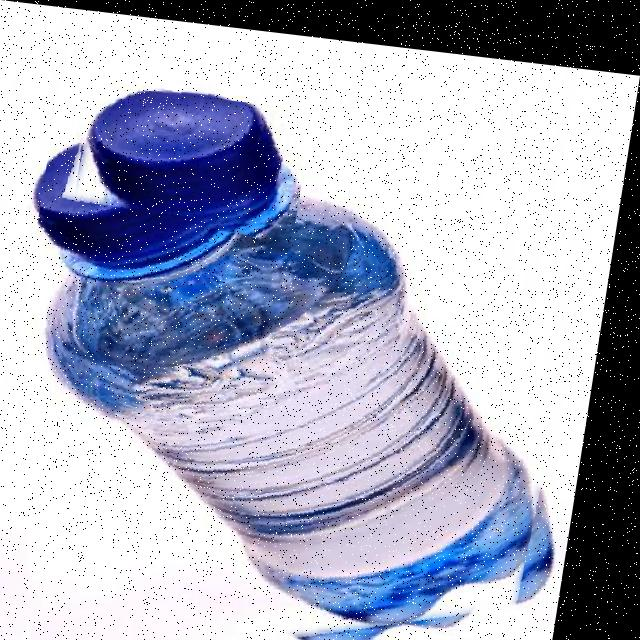plasticbottle: (0, 64, 618, 640)
plasticbottlecap: (76, 82, 315, 238)
